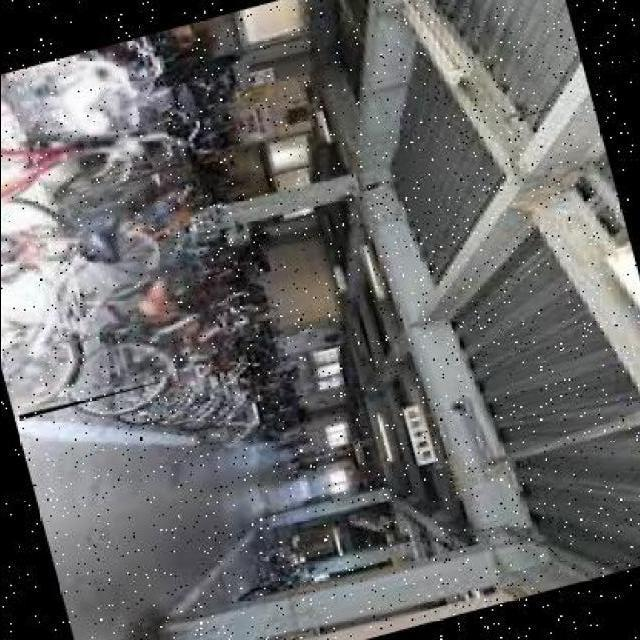bicycle: (2, 38, 231, 424)
